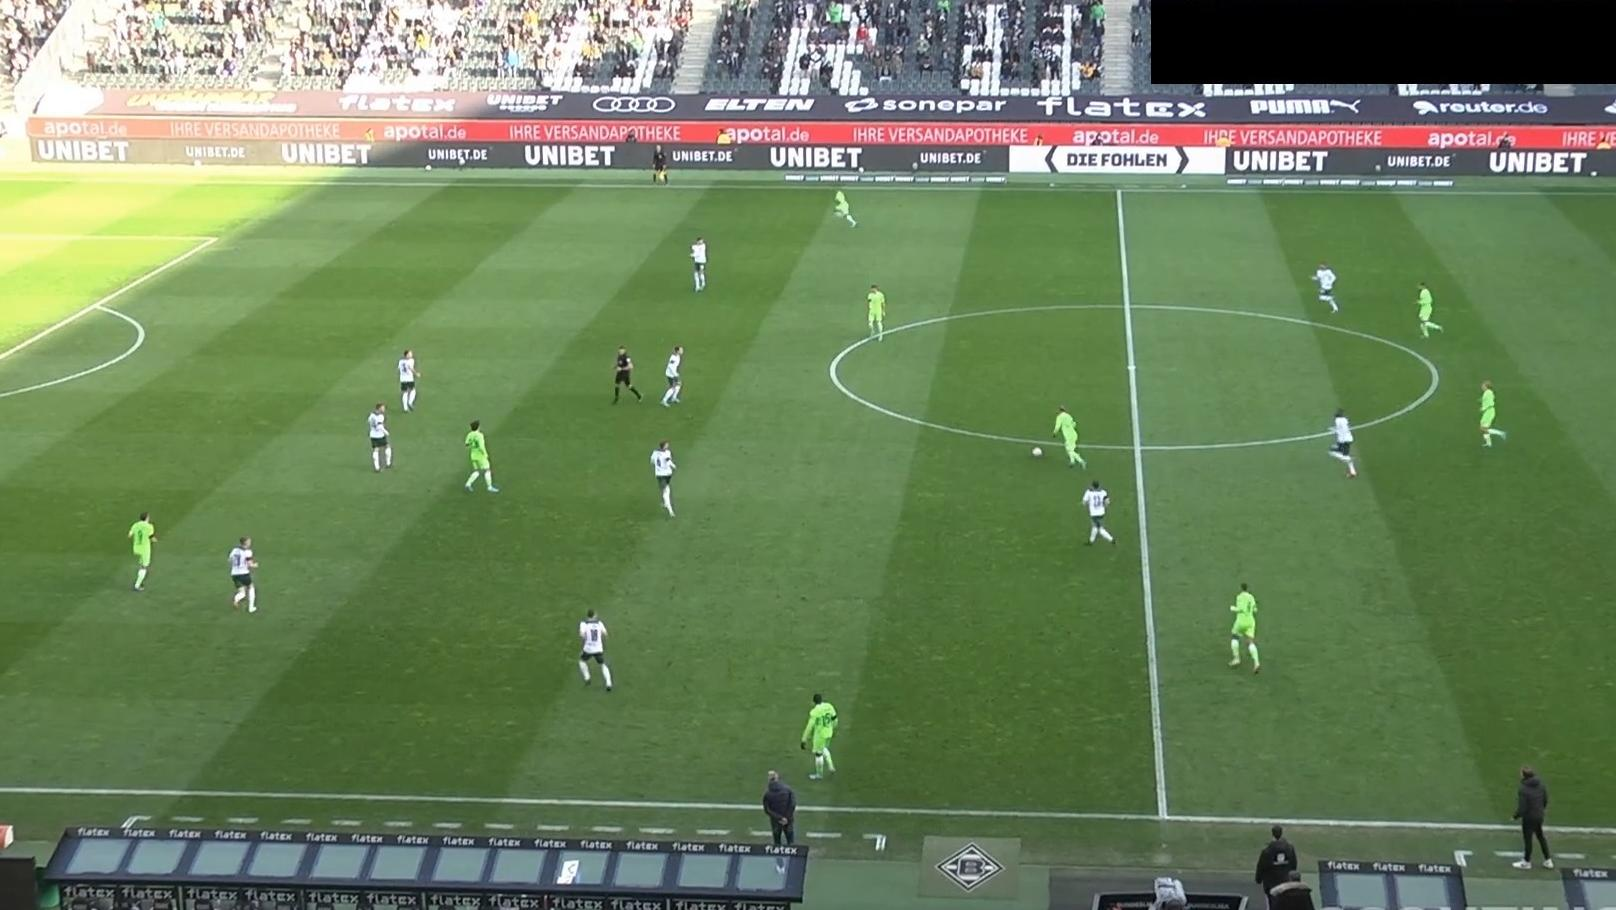ball: (1031, 445, 1044, 458)
